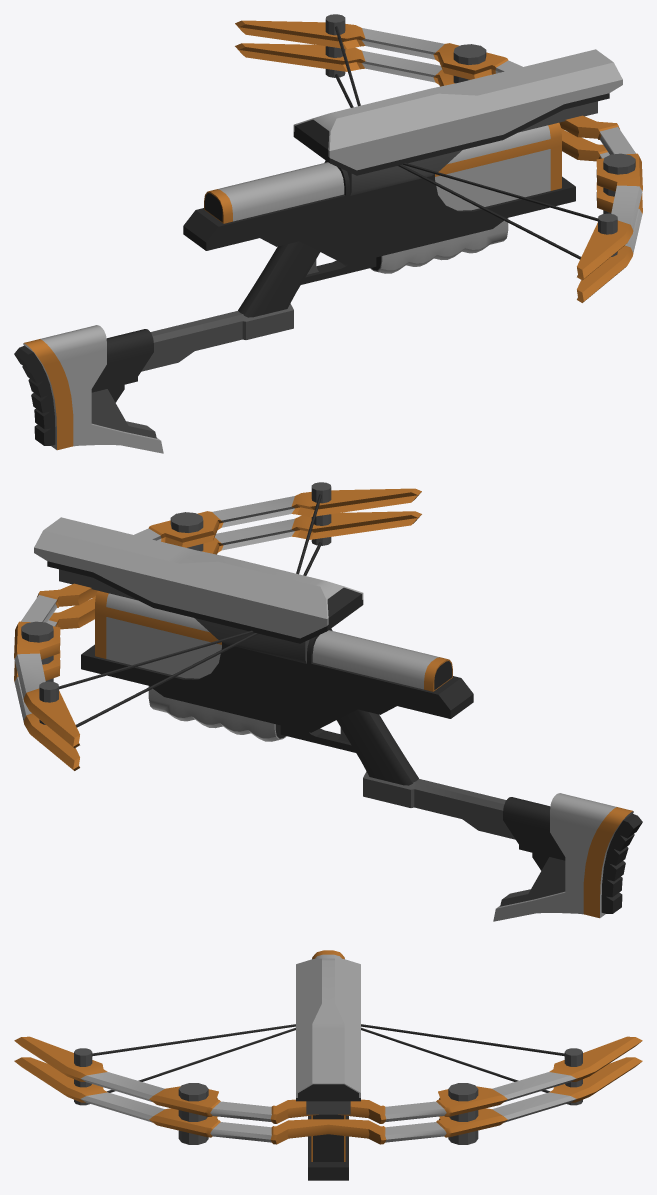
The model's file is Crossbow_1.glb.
3 renders of one model, top to bottom at view 1: azimuth 30°, elevation 25°; view 2: azimuth 150°, elevation 25°; view 3: azimuth 270°, elevation 25°, orthographic. The views are drawn at different scales.
Visible parts, largest first — view 1: Crossbow_1; view 2: Crossbow_1; view 3: Crossbow_1.
Boxes of the visible parts, x1,y1,x2,y2 form: Crossbow_1: [14, 14, 642, 453]; Crossbow_1: [14, 482, 642, 921]; Crossbow_1: [14, 950, 642, 1180].
Size of the model in its own units: 1.86 by 0.8812 by 1.92.
